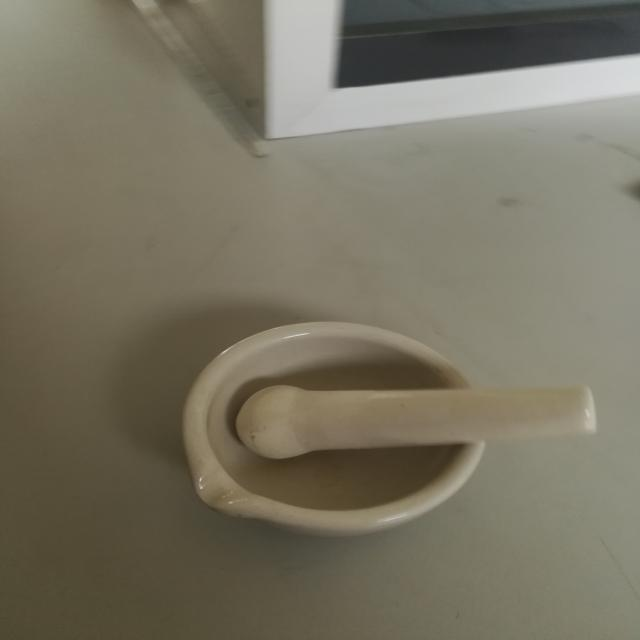Porcelain_Mortar Pestle: (153, 264, 623, 596)
